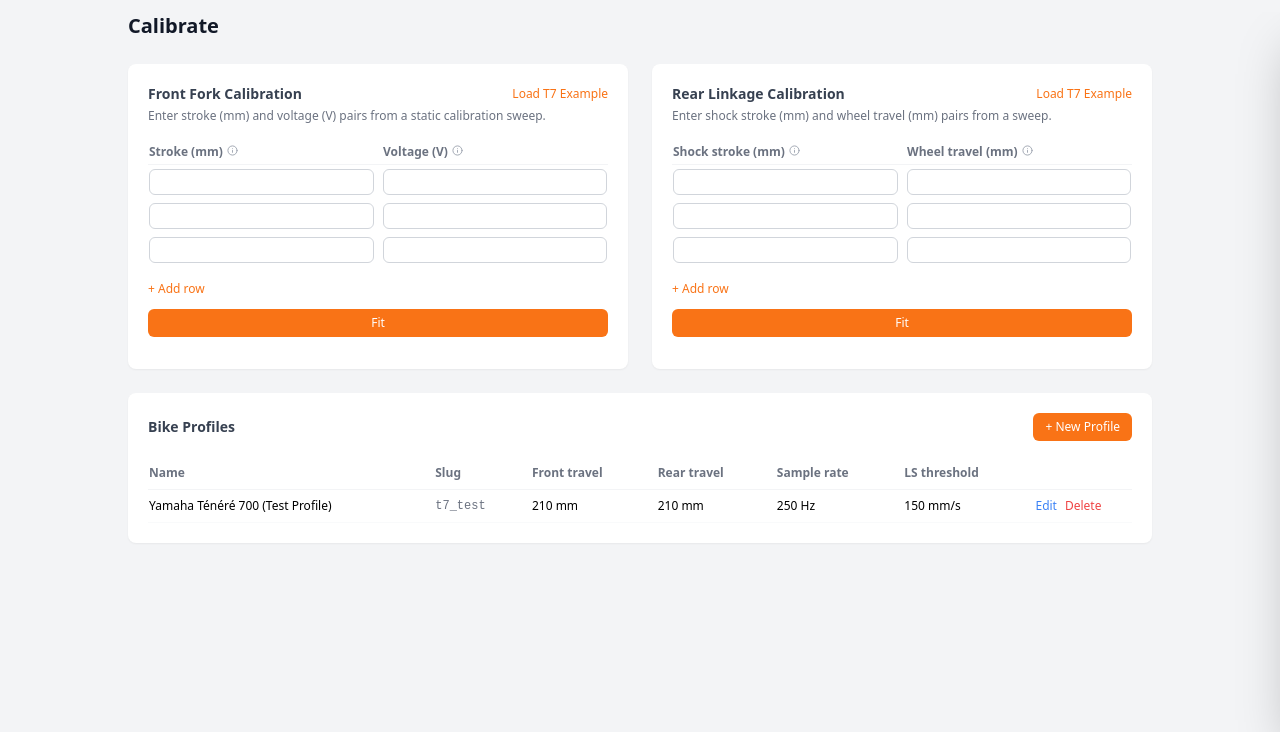
Test: CalibratePage › closes the info sidebar when the close button is clicked
This screenshot has width=1280, height=732.
Open the sidebar
What coordinates should you click on to do the following:
click the button named "more info about"
I would click on:
 (232, 150)
Its box is [227,145,238,156].
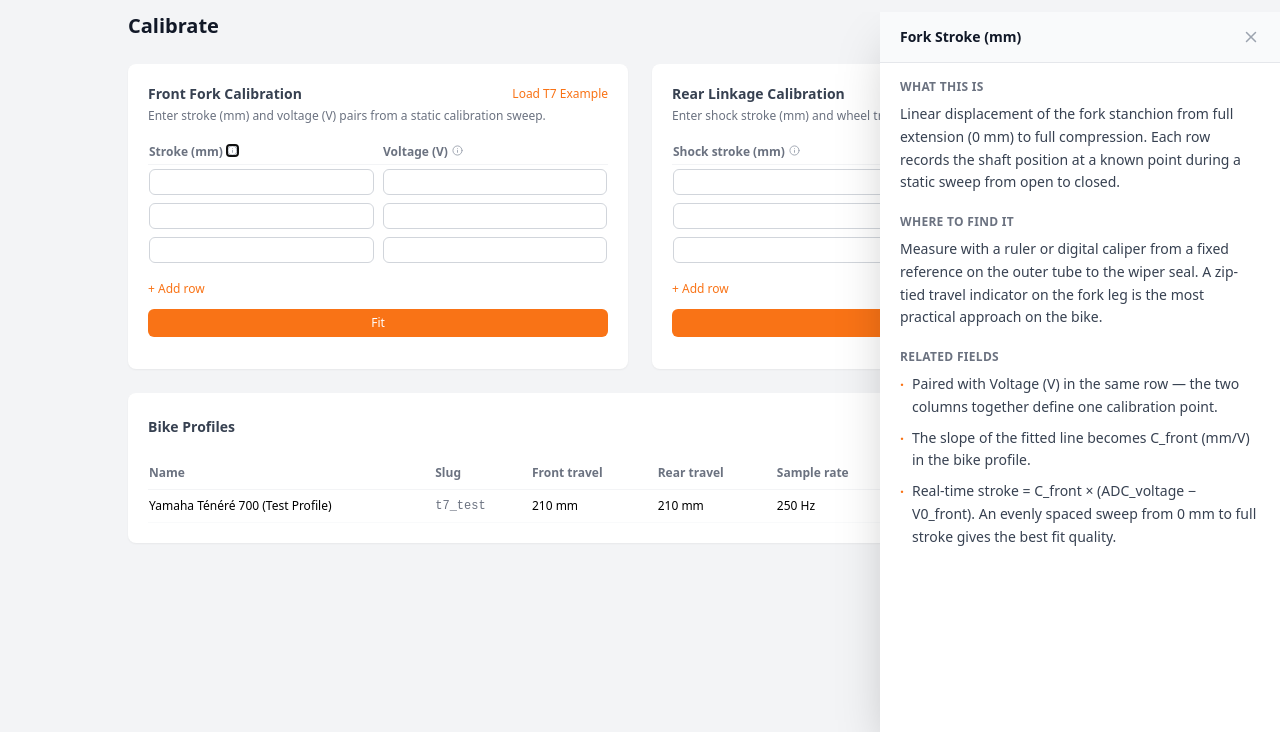
Now the heading "What this is" is shown, box [900,78,984,95]
Close it
What coordinates should you click on to do the following:
click the button named "close field details"
I would click on:
 (1251, 37)
Its box is [1242,28,1260,46].
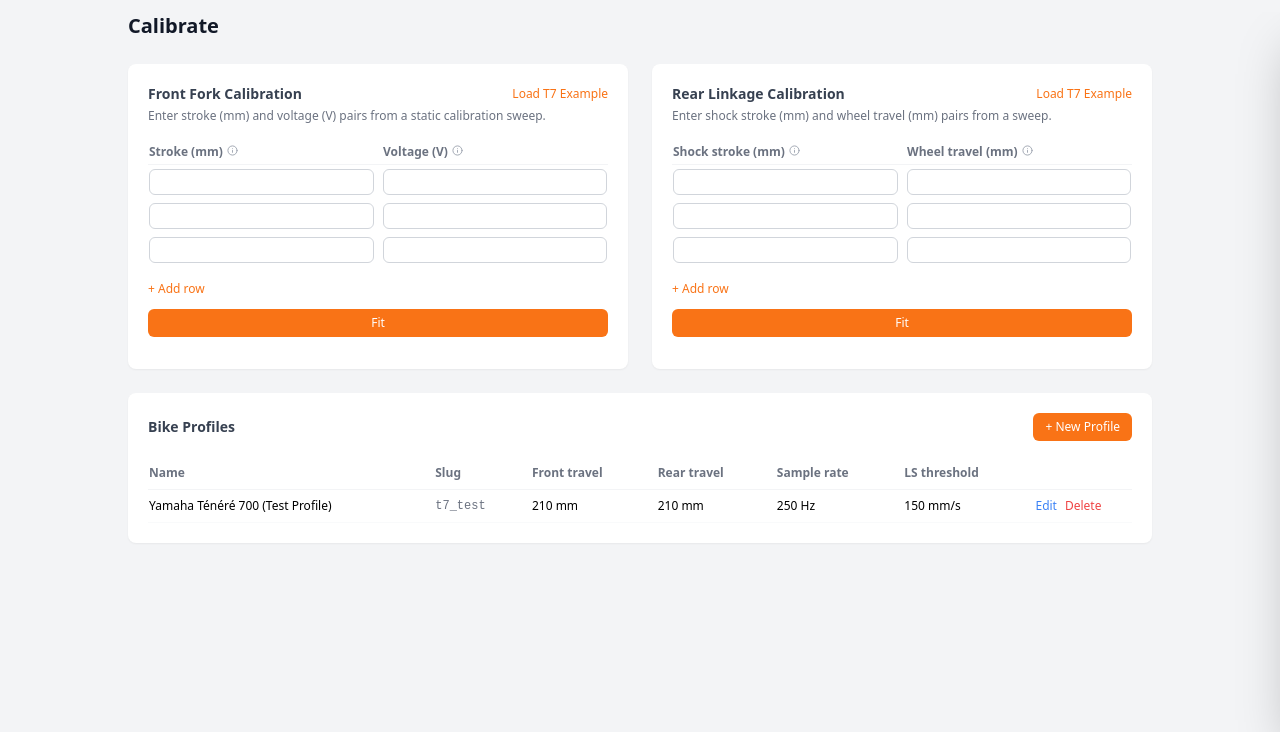
Now the heading "What this is" is gone
